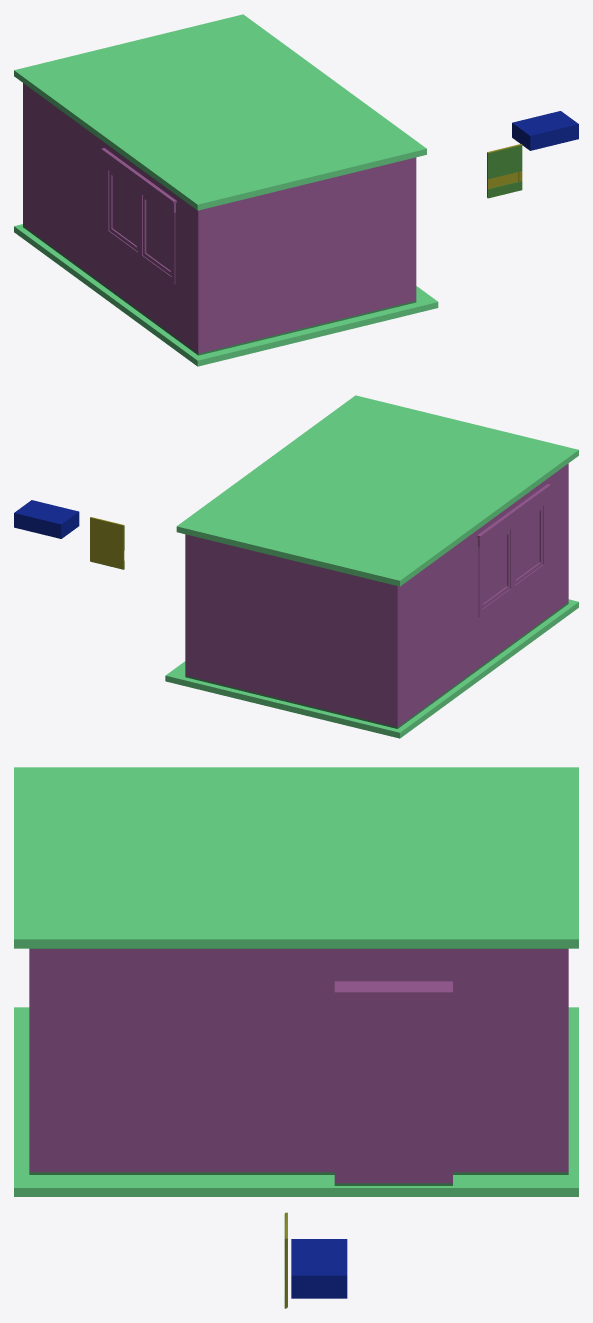
The model's file is FloorPlan20_physics.fbx.
3 renders of one model, top to bottom at view 1: azimuth 30°, elevation 25°; view 2: azimuth 150°, elevation 25°; view 3: azimuth 270°, elevation 25°, orthographic. The views are drawn at different scales.
Parts seen in each view (by area): view 1: StandardWallSize, Ceiling, Floor, Window, WindowPane, StandardSinkSize1, DrawerBase2; view 2: StandardWallSize, Ceiling, Floor, Window, WindowPane, StandardSinkSize1, CabinetDoorBase3; view 3: StandardWallSize, Ceiling, Floor, StandardSinkSize1.
Boxes of the visible parts, box(x1,y1,x2,y2) form: StandardWallSize: box(23, 83, 416, 355); Ceiling: box(14, 14, 426, 210); Floor: box(14, 224, 438, 366); Window: box(101, 148, 176, 284); WindowPane: box(112, 176, 170, 270); StandardSinkSize1: box(512, 111, 578, 150); DrawerBase2: box(487, 152, 522, 179); StandardWallSize: box(185, 463, 568, 728); Ceiling: box(176, 395, 578, 586); Floor: box(165, 599, 578, 738); Window: box(477, 484, 550, 617); WindowPane: box(483, 511, 539, 603); StandardSinkSize1: box(14, 500, 79, 538); CabinetDoorBase3: box(90, 517, 123, 568); StandardWallSize: box(29, 948, 568, 1185); Ceiling: box(14, 767, 578, 948); Floor: box(14, 1007, 578, 1196); StandardSinkSize1: box(291, 1239, 347, 1298).
Size of the model in its own units: 823 by 270 by 555.
